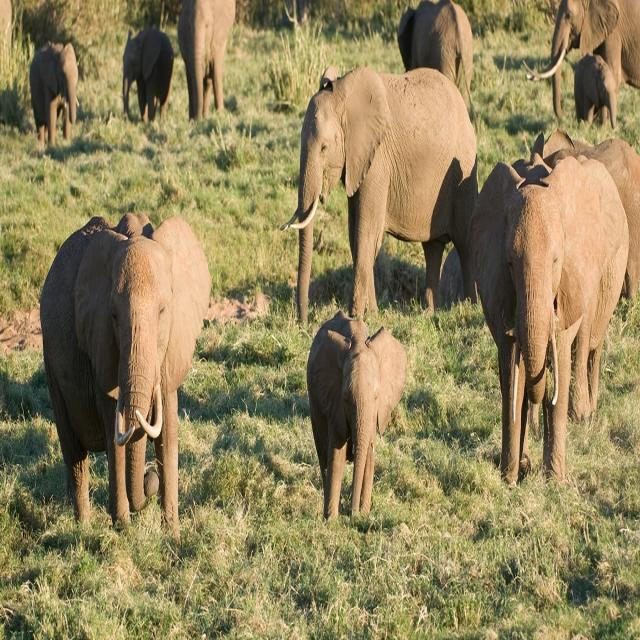Elephant: (35, 206, 221, 551), (466, 139, 630, 497), (288, 69, 482, 330), (297, 317, 413, 520), (395, 2, 491, 113), (545, 5, 640, 117), (178, 0, 239, 121), (24, 32, 80, 150), (112, 28, 176, 131), (568, 51, 619, 132)
